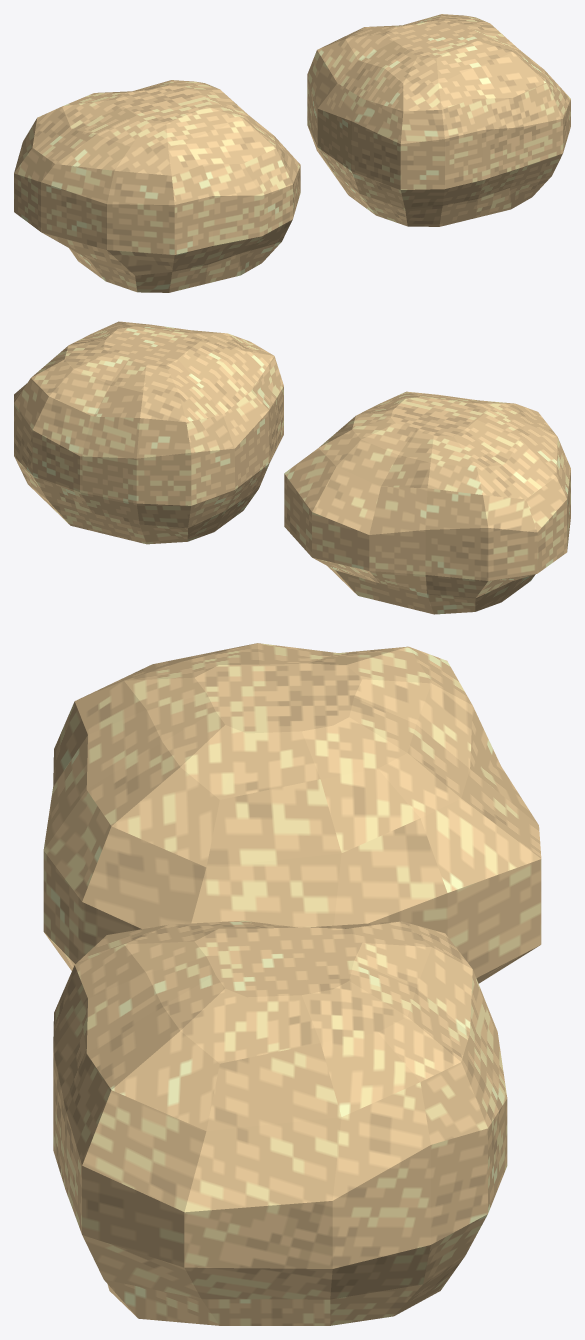
File: SandRock.fbx
3 renders of one model, top to bottom at view 1: azimuth 30°, elevation 25°; view 2: azimuth 150°, elevation 25°; view 3: azimuth 270°, elevation 25°, orthographic. The views are drawn at different scales.
Visible parts, largest first — view 1: Cube.001, Cube; view 2: Cube.001, Cube; view 3: Cube, Cube.001.
Boxes of the visible parts, x1,y1,x2,y2 form: Cube.001: (14,80,300,292); Cube: (307,14,570,226); Cube.001: (284,391,570,614); Cube: (14,321,283,544); Cube: (53,920,507,1325); Cube.001: (43,643,541,983).
Bounding box in the file's own units: 707 × 198 × 301.
